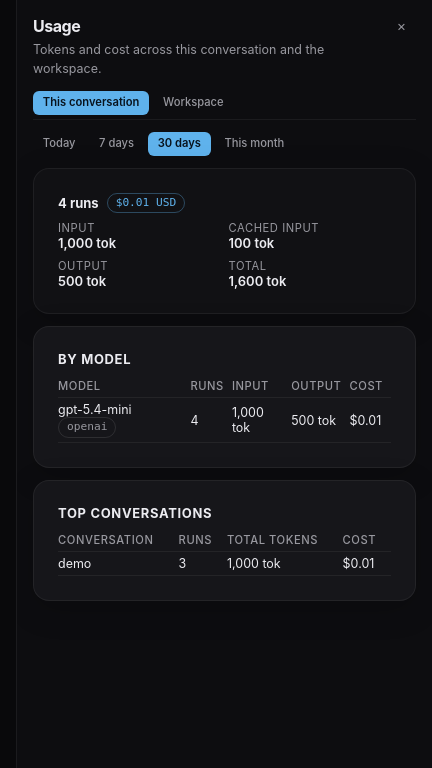
it: UsagePanel › renders the admin-only state on 403 from /v1/usage/org
expect the text "4 runs" is shown: met, box [58, 195, 99, 211]
Step 1. Click the tab "Workspace" → click(193, 103), box [153, 91, 233, 115]
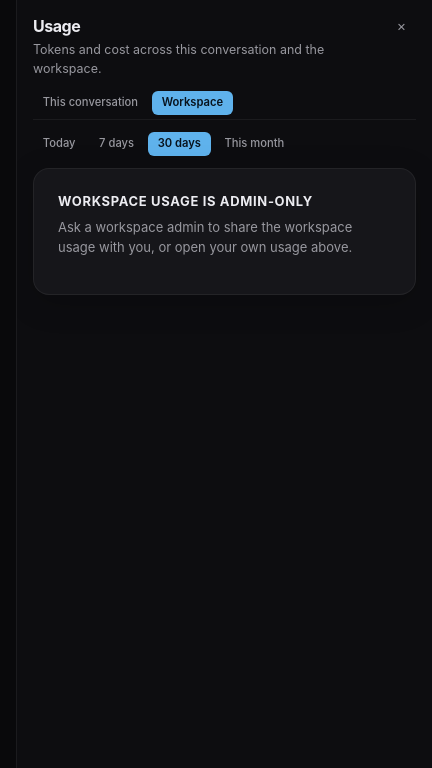
expect the heading "Workspace usage is admin-only" is shown: met, box [58, 193, 313, 209]
